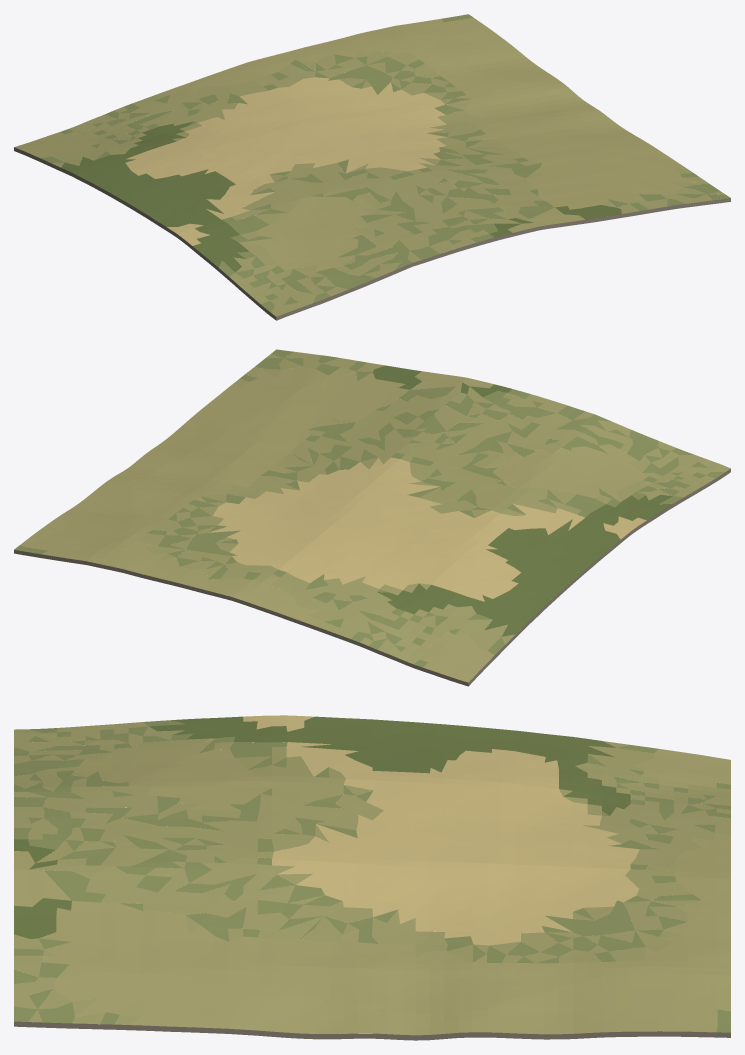
The model's file is parca_+1_+1-uzak.glb.
3 views of the same model, one above another, from view 1: azimuth 30°, elevation 25°; view 2: azimuth 150°, elevation 25°; view 3: azimuth 270°, elevation 25° (orthographic). The views are drawn at different scales.
Parts seen in each view (by area): view 1: parca_+1_+1_arazi_uzak; view 2: parca_+1_+1_arazi_uzak; view 3: parca_+1_+1_arazi_uzak.
Boxes of the visible parts, x1=… form: parca_+1_+1_arazi_uzak: x1=14, y1=14, x2=730, y2=320; parca_+1_+1_arazi_uzak: x1=14, y1=349, x2=730, y2=686; parca_+1_+1_arazi_uzak: x1=14, y1=715, x2=730, y2=1040.
Bounding box in the file's own units: 1000 × 110 × 1000.
